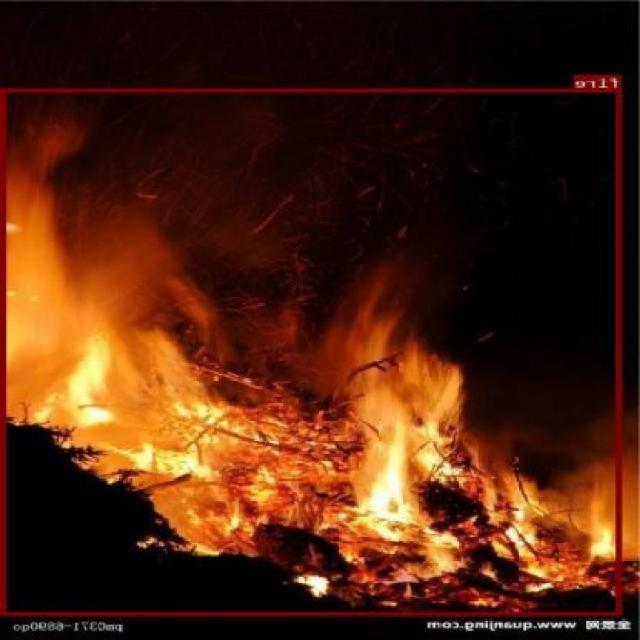Fire: (2, 87, 622, 615)
